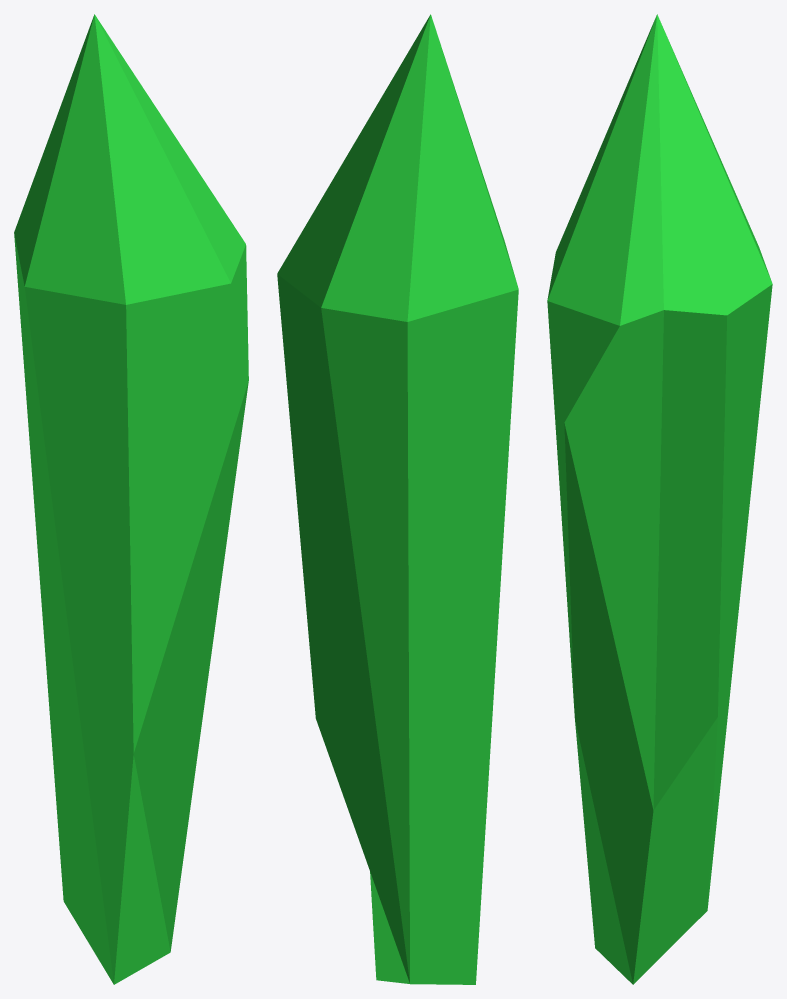
The model's file is Grass4.fbx.
3 renders of one model, left to right at view 1: azimuth 30°, elevation 25°; view 2: azimuth 150°, elevation 25°; view 3: azimuth 270°, elevation 25°, orthographic. The views are drawn at different scales.
Visible parts, largest first — view 1: Grass; view 2: Grass; view 3: Grass.
Part boxes in pixels (x1,y1,x2,y2): Grass: [14, 14, 248, 984]; Grass: [277, 14, 518, 984]; Grass: [547, 14, 772, 984].
Size of the model in its own units: 63.04 by 271 by 58.98.
